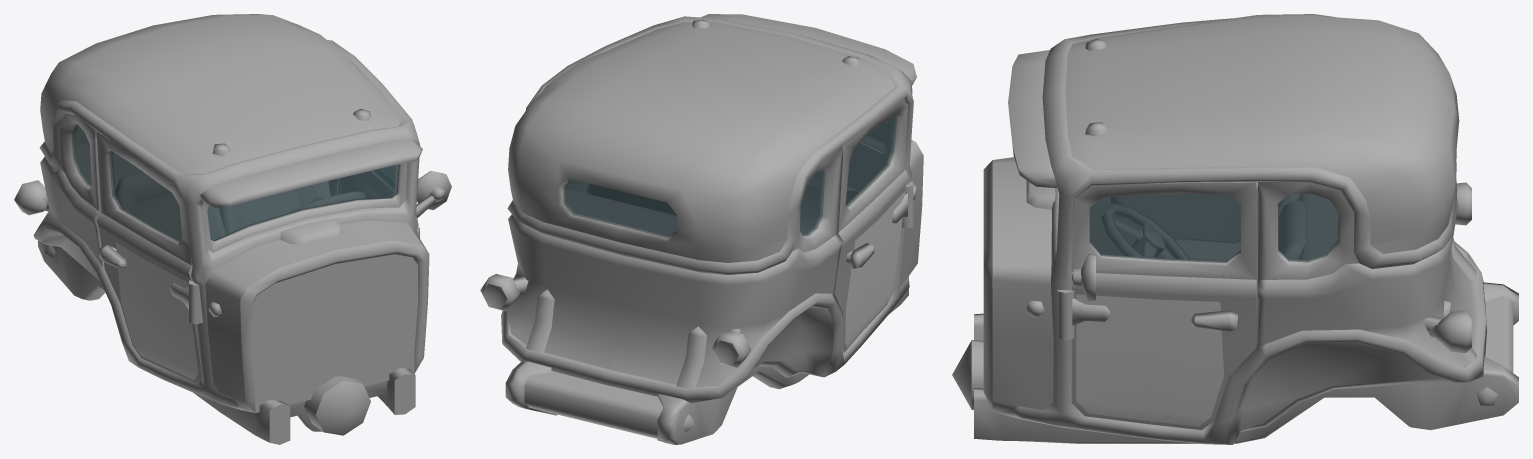
Rendered from Body_Bantam_Low.fbx.
3 renders of one model, left to right at view 1: azimuth 30°, elevation 25°; view 2: azimuth 150°, elevation 25°; view 3: azimuth 270°, elevation 25°, orthographic. The views are drawn at different scales.
Visible parts, largest first — view 1: Bantam_Low_Body_Mesh, Bantam_Low_Door_Right_Mesh, Bantam_Low_Door_Right_Decal_Mesh, Bantam_Low_Body_Window_Mesh, Bantam_Low_Door_Right_Window_Mesh, Bantam_Low_Door_Left_Mesh, Body_SteerWheel_Mesh; view 2: Bantam_Low_Body_Mesh, Bantam_Low_Door_Right_Mesh, Bantam_Low_Body_Window_Mesh, Bantam_Low_Door_Right_Decal_Mesh, Bantam_Low_Door_Right_Window_Mesh; view 3: Bantam_Low_Body_Mesh, Bantam_Low_Door_Left_Mesh, Bantam_Low_Door_Left_Decal_Mesh, Bantam_Low_Door_Left_Window_Mesh, Bantam_Low_Door_Right_Mesh, Bantam_Low_Body_Window_Mesh, Body_SteerWheel_Mesh.
Part boxes in pixels (x1=…): Bantam_Low_Body_Mesh: x1=14, y1=14, x2=429, y2=444; Bantam_Low_Door_Right_Mesh: x1=96, y1=131, x2=202, y2=383; Bantam_Low_Door_Right_Decal_Mesh: x1=115, y1=242, x2=198, y2=379; Bantam_Low_Body_Window_Mesh: x1=71, y1=124, x2=398, y2=240; Bantam_Low_Door_Right_Window_Mesh: x1=109, y1=151, x2=182, y2=242; Bantam_Low_Door_Left_Mesh: x1=338, y1=171, x2=451, y2=217; Body_SteerWheel_Mesh: x1=288, y1=192, x2=365, y2=212; Bantam_Low_Body_Mesh: x1=480, y1=14, x2=923, y2=444; Bantam_Low_Door_Right_Mesh: x1=833, y1=99, x2=908, y2=352; Bantam_Low_Body_Window_Mesh: x1=563, y1=122, x2=886, y2=237; Bantam_Low_Door_Right_Decal_Mesh: x1=845, y1=191, x2=905, y2=347; Bantam_Low_Door_Right_Window_Mesh: x1=845, y1=115, x2=896, y2=207; Bantam_Low_Body_Mesh: x1=952, y1=14, x2=1518, y2=444; Bantam_Low_Door_Left_Mesh: x1=1071, y1=182, x2=1258, y2=429; Bantam_Low_Door_Left_Decal_Mesh: x1=1076, y1=294, x2=1223, y2=426; Bantam_Low_Door_Left_Window_Mesh: x1=1089, y1=194, x2=1240, y2=262; Bantam_Low_Door_Right_Mesh: x1=1090, y1=194, x2=1240, y2=255; Bantam_Low_Body_Window_Mesh: x1=1278, y1=193, x2=1339, y2=262; Body_SteerWheel_Mesh: x1=1101, y1=204, x2=1189, y2=259.
Bounding box in the file's own units: 179 × 171 × 250.
